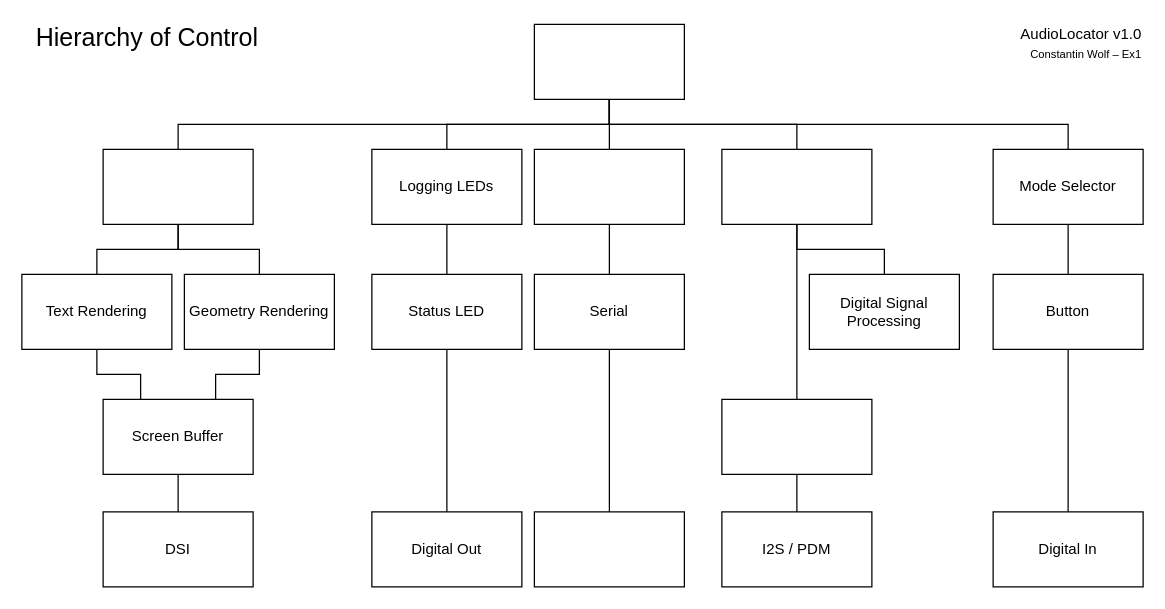
The diagram is 1165 pixels wide and 609 high, and some of its shapes have lost their labels. Here are the shapes that lost their labels. From the top down, the centre of each, then its label:
[608,61]: Main
[177,186]: Direction Display
[608,186]: Logging Text
[796,186]: Direction Calculation
[796,436]: Microphone
[608,549]: UART
